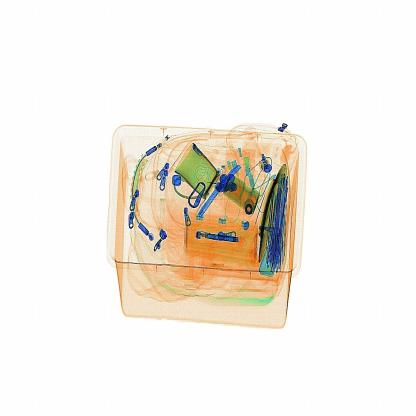pliers: (193, 156, 243, 226)
